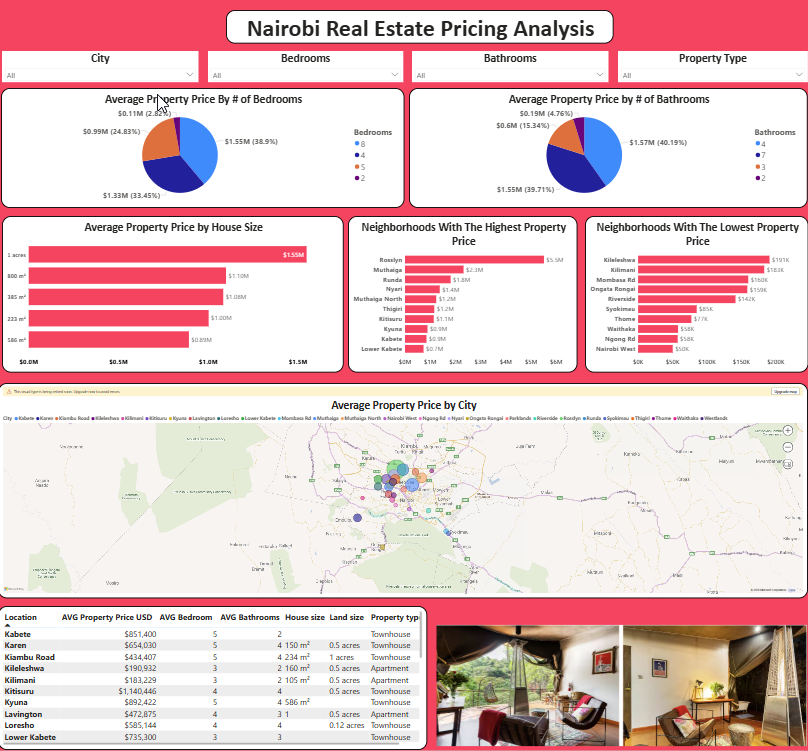

The dashboard page shown, as its layout file describes it:
{"tool":"powerbi","page":{"name":"Nairobi Property Prices Analysis","canvas":[2700,2500],"ordinal":1},"visuals":[{"type":"clusteredBarChart","title":"Neighborhoods With The Lowest Property Price","fields":{"Category":["Nairobi_Property_Pricing.Location"],"Y":["Nairobi_Property_Pricing.Average Property Price USD"]},"box":[1955.1,718.4,744.9,522.4],"z":0},{"type":"clusteredBarChart","title":"Neighborhoods With The Highest Property Price","fields":{"Category":["Nairobi_Property_Pricing.Location"],"Y":["Nairobi_Property_Pricing.Average Property Price USD"]},"box":[1167.3,718.4,765.3,522.4],"z":1000},{"type":"map","title":"Average Property Price by City","fields":{"X":["Nairobi_Property_Pricing.longitude"],"Y":["Nairobi_Property_Pricing.latitude"],"Size":["Nairobi_Property_Pricing.Average Property Price USD"],"Series":["Nairobi_Property_Pricing.Location"]},"box":[0,1275.5,2700,718.4],"z":2000},{"type":"pivotTable","fields":{"Values":["Nairobi_Property_Pricing.Average Property Price USD","Nairobi_Property_Pricing.Average Bedroom","Nairobi_Property_Pricing.Average Bathrooms","Min(Nairobi_Property_Pricing.House_size)","Min(Nairobi_Property_Pricing.Land_size)","Min(Nairobi_Property_Pricing.propertyType)"],"Rows":["Nairobi_Property_Pricing.Location"]},"box":[0,2020.4,1430.6,479.6],"z":3000},{"type":"barChart","title":"Average Property Price by House Size","fields":{"Category":["Nairobi_Property_Pricing.House_size","Nairobi_Property_Pricing.Land_size"],"Y":["Nairobi_Property_Pricing.Average Property Price USD"]},"box":[12.2,718.4,1138.8,522.4],"z":4000},{"type":"pieChart","title":"Average Property Price By # of Bedrooms","fields":{"Y":["Nairobi_Property_Pricing.Average Property Price USD"],"Category":["Nairobi_Property_Pricing.Bedroom"]},"box":[10.2,293.9,1345,400],"z":5000},{"type":"pieChart","title":"Average Property Price by # of Bathrooms","fields":{"Y":["Nairobi_Property_Pricing.Average Property Price USD"],"Category":["Nairobi_Property_Pricing.bathroom"]},"box":[1371.4,293.9,1328.6,400],"z":6000},{"type":"image","box":[1455.1,2069.4,1244.9,430.6],"z":7000},{"type":"slicer","title":"City","fields":{"Values":["Nairobi_Property_Pricing.Location"]},"box":[12.2,171.4,655.1,104.1],"z":8000},{"type":"slicer","title":"Bedrooms","fields":{"Values":["Nairobi_Property_Pricing.Bedroom"]},"box":[700,171.4,651,104.1],"z":9000},{"type":"slicer","title":"Bathrooms","fields":{"Values":["Nairobi_Property_Pricing.bathroom"]},"box":[1381.6,171.4,655.1,104.1],"z":10000},{"type":"slicer","title":"Property Type","fields":{"Values":["Nairobi_Property_Pricing.propertyType"]},"box":[2067.3,171.4,632.7,104.1],"z":11000},{"type":"textbox","title":"Nairobi Real Estate Pricing Analysis","box":[761.2,32.7,1291.8,112.2],"z":12000}]}

Visuals, with their boxes in screenshot pixels (x1, y1, x2, y2), scaled from the page's 2700x2500 canvas onto the 808x751 screenshot:
"Neighborhoods With The Lowest Property Price" clusteredBarChart: [585,216,807,373]
"Neighborhoods With The Highest Property Price" clusteredBarChart: [349,216,578,373]
"Average Property Price by City" map: [0,383,807,599]
pivotTable - Nairobi_Property_Pricing.Average Property Price USD x Nairobi_Property_Pricing.Average Bedroom: [0,607,428,750]
"Average Property Price by House Size" barChart: [4,216,344,373]
"Average Property Price By # of Bedrooms" pieChart: [3,88,406,208]
"Average Property Price by # of Bathrooms" pieChart: [410,88,807,208]
image: [435,622,807,750]
"City" slicer: [4,51,200,83]
"Bedrooms" slicer: [209,51,404,83]
"Bathrooms" slicer: [413,51,610,83]
"Property Type" slicer: [619,51,807,83]
"Nairobi Real Estate Pricing Analysis" textbox: [228,10,614,44]
